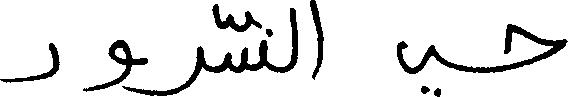X: (132, 41, 202, 96), (507, 19, 567, 74), (0, 38, 57, 87), (85, 35, 130, 96), (228, 6, 263, 77), (397, 36, 432, 96), (310, 0, 322, 84), (290, 3, 296, 74)
